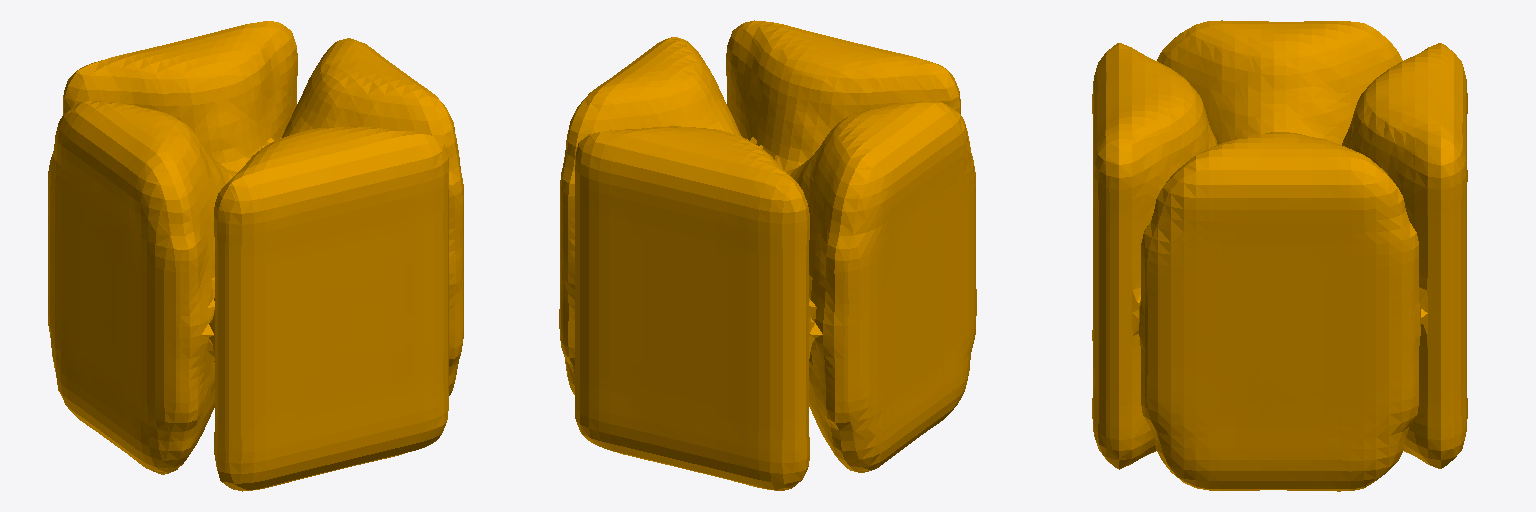
robot.urdf — D2:
<?xml version="1.0"?>
<robot name="D2">
  <link name="base_link">
    <visual>
      <geometry>
        <mesh filename="../../../../meshes/egad/eval/D2.obj" />
      </geometry>
    </visual>
  </link>
</robot>

--- Facts derived from the render (not from the file) ---
The picture shows the robot from 3 angles, left to right: view 1: azimuth 30°, elevation 25°; view 2: azimuth 150°, elevation 25°; view 3: azimuth 270°, elevation 25°; orthographic projection.
Model D2 with 1 links and 0 joints (none), rooted at base_link, posed every joint at zero.
Links seen in each view (by area): view 1: base_link; view 2: base_link; view 3: base_link.
Link boxes in pixels (left/top/right/bottom): base_link: left=48, top=21, right=463, bottom=491; base_link: left=559, top=20, right=976, bottom=490; base_link: left=1092, top=20, right=1467, bottom=491.
Bounding box of the posed robot: 0.0601 × 0.06 × 0.0601 m (x, y, z).
Meshes: 1 distinct files referenced, 1 mesh visuals loaded (1 OBJ).